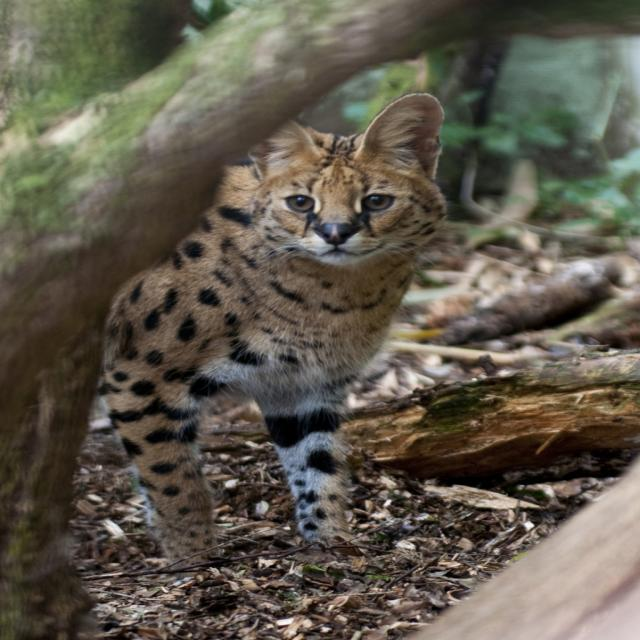Cheetah: (105, 86, 460, 562)
